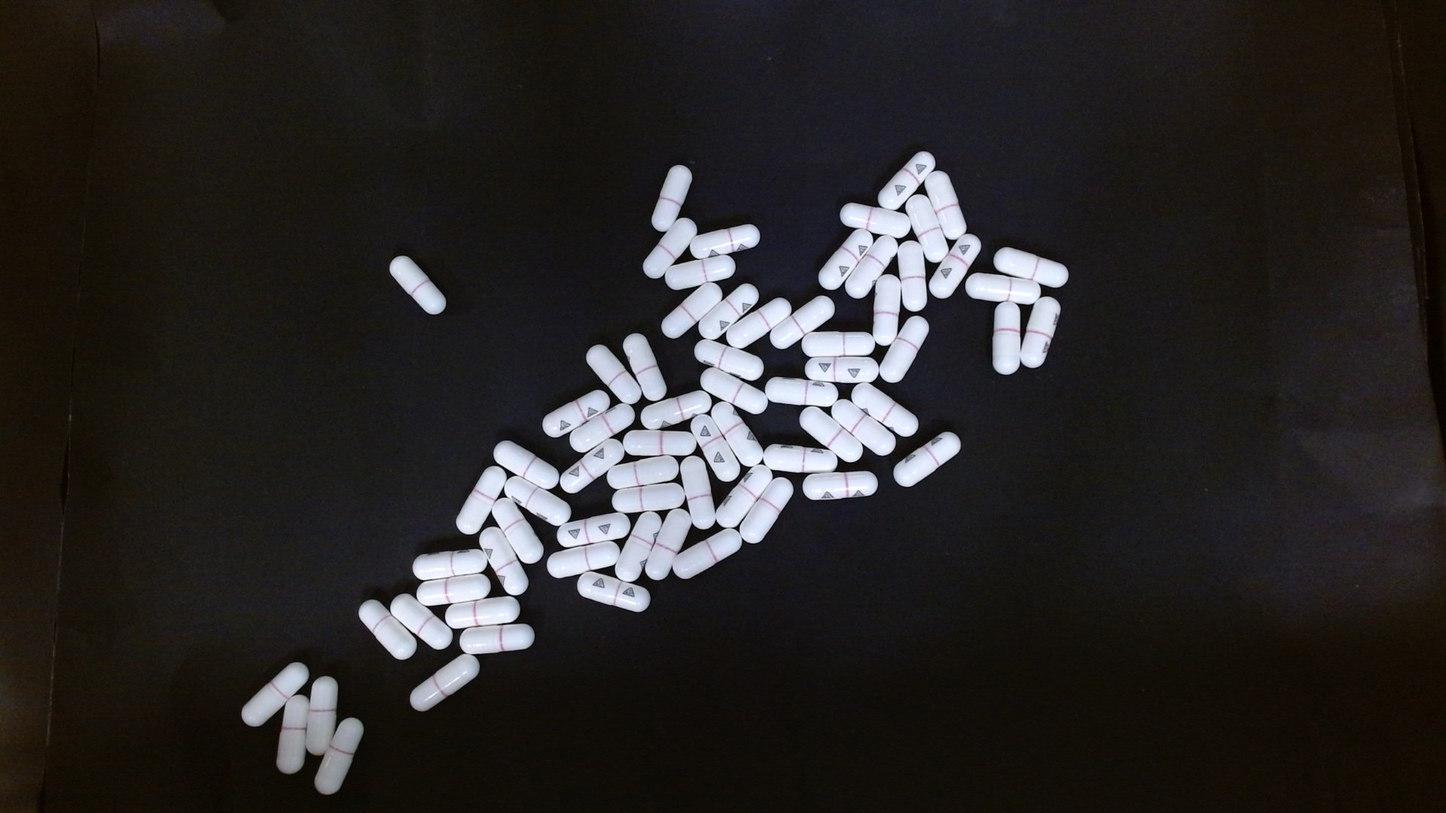Capsule: (239, 661, 307, 728), (410, 650, 480, 711), (828, 397, 898, 457), (356, 597, 419, 662), (850, 380, 918, 440), (840, 232, 898, 300), (892, 431, 961, 488), (722, 296, 792, 352), (815, 227, 876, 291), (798, 404, 864, 463), (453, 463, 506, 536), (671, 527, 744, 580), (389, 592, 453, 652), (660, 281, 725, 340), (768, 295, 837, 350), (560, 434, 627, 490), (479, 524, 531, 596), (714, 464, 772, 528), (641, 215, 699, 279), (567, 401, 637, 454), (878, 314, 930, 385), (738, 476, 793, 543), (876, 150, 936, 211), (504, 473, 569, 528), (711, 401, 764, 468), (491, 496, 544, 563), (388, 254, 446, 315), (615, 509, 664, 581), (928, 233, 982, 298), (542, 388, 612, 438), (493, 439, 560, 491), (688, 414, 740, 481), (696, 283, 758, 339), (316, 718, 362, 793), (923, 170, 969, 243), (992, 245, 1070, 288), (586, 343, 639, 405), (645, 507, 691, 578), (905, 192, 950, 264), (649, 163, 694, 233), (700, 366, 765, 414), (695, 339, 764, 384), (639, 389, 712, 430), (577, 571, 648, 613), (663, 253, 739, 292), (622, 332, 665, 400), (1021, 297, 1060, 371), (276, 690, 310, 774), (304, 674, 338, 757), (555, 513, 630, 550), (548, 540, 622, 577), (605, 453, 681, 489), (680, 455, 715, 530), (840, 203, 911, 239), (688, 224, 761, 259), (413, 547, 490, 580), (446, 595, 520, 628), (802, 470, 880, 501), (417, 574, 490, 607), (965, 272, 1040, 304), (459, 623, 535, 654), (765, 376, 838, 408), (897, 241, 927, 316), (803, 355, 880, 384), (764, 444, 840, 473), (871, 274, 901, 347), (612, 483, 685, 513), (800, 331, 873, 361), (622, 428, 694, 458), (991, 301, 1020, 373)
